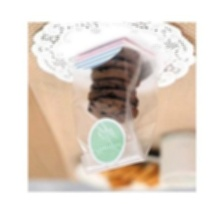snack: (63, 33, 165, 180)
